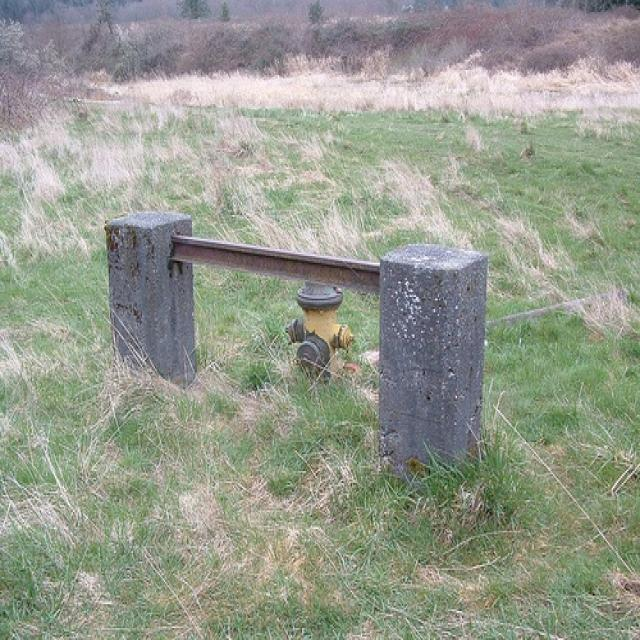fire_hydrant: (286, 280, 354, 384)
